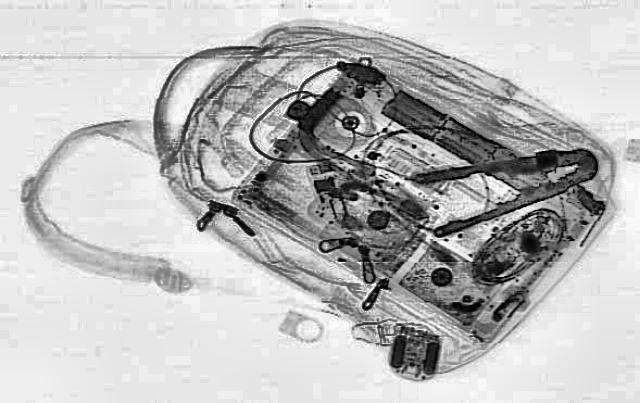Pliers: (394, 134, 622, 236)
